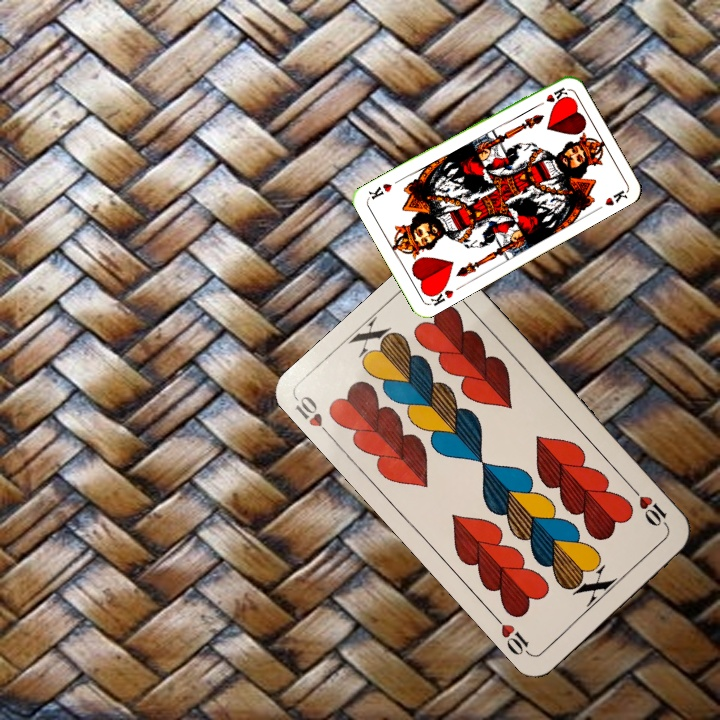H10: (291, 392, 336, 442), (627, 483, 671, 531)
HK: (531, 83, 570, 110), (424, 281, 456, 309)
